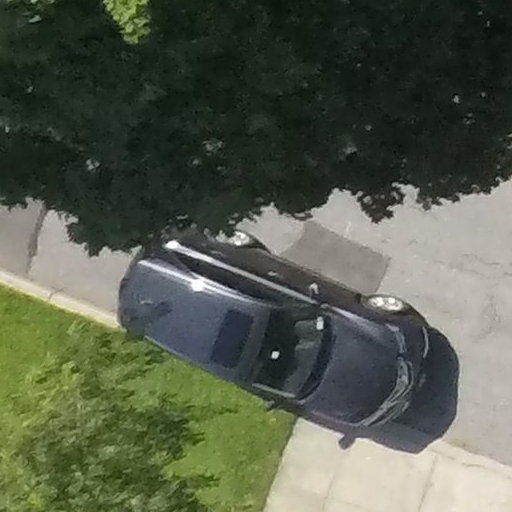car: (105, 186, 467, 470)
